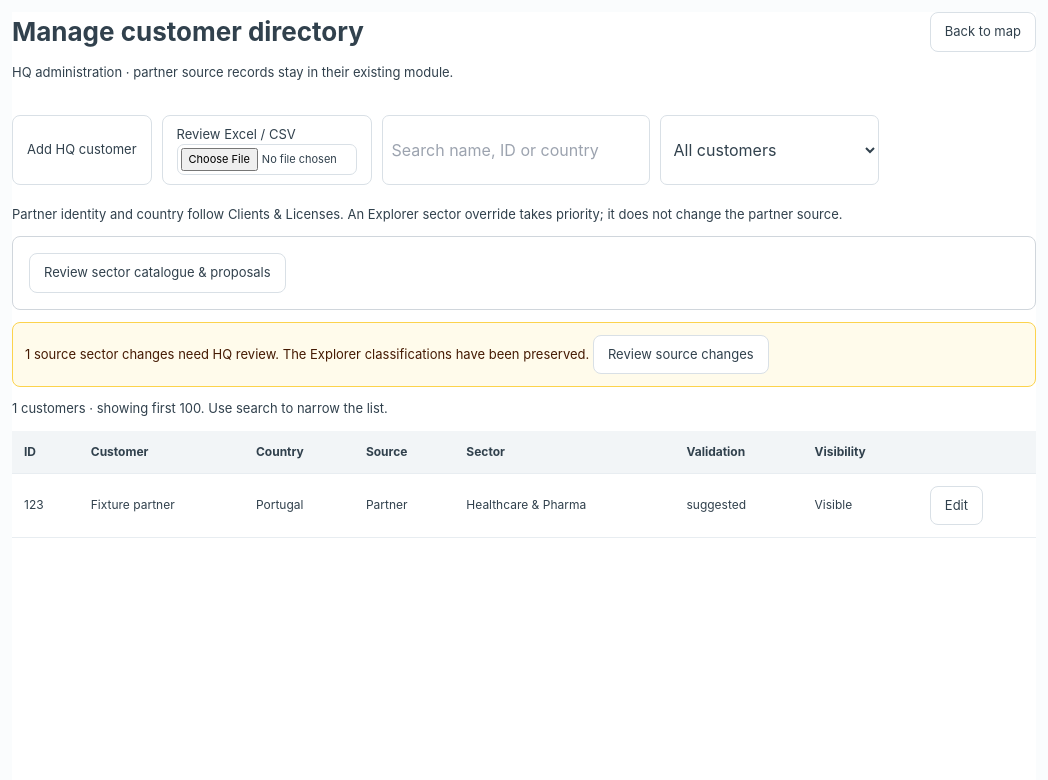
Test: HQ sector source review › shows both sources and does not label a suggestion as validated
The width and height of the screenshot is (1048, 780).
Click the button "Edit": (956, 505) [930,486,983,525]
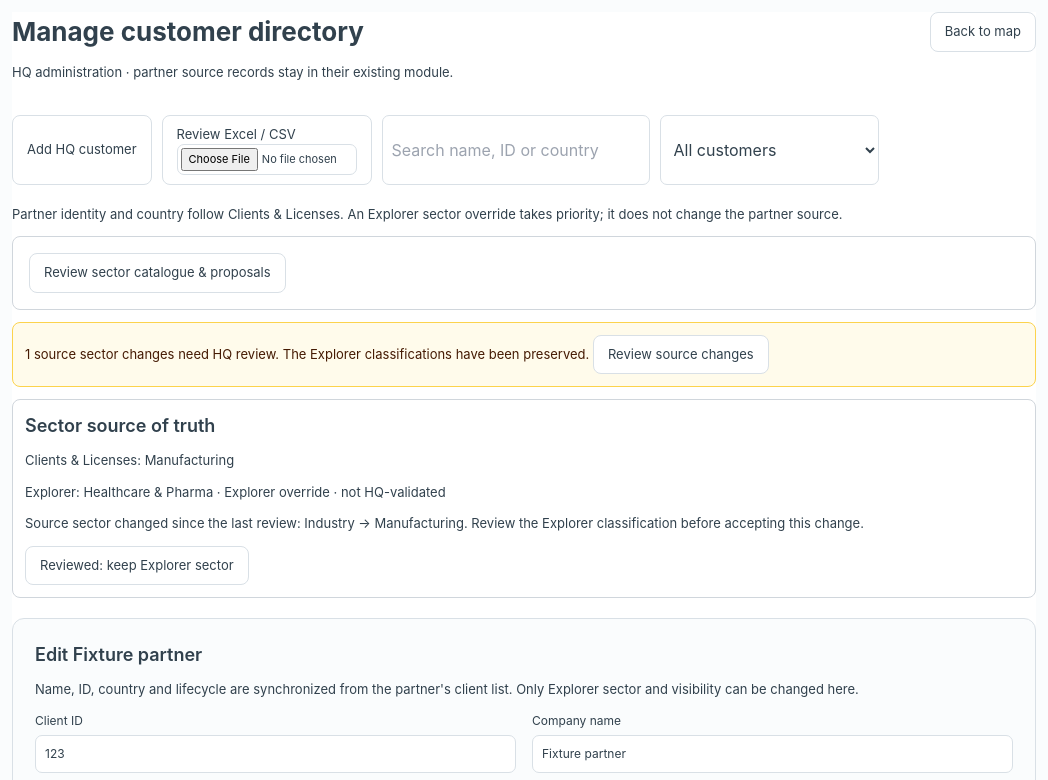
Now the text "Clients & Licenses: Manufacturing" is shown, box [25,452,234,468]
Now the element named "Sector source review" shows "Explorer override · not HQ-validated", box [224,484,446,500]
Now the 2nd message shows "Industry → Manufacturing", box [25,515,864,531]
